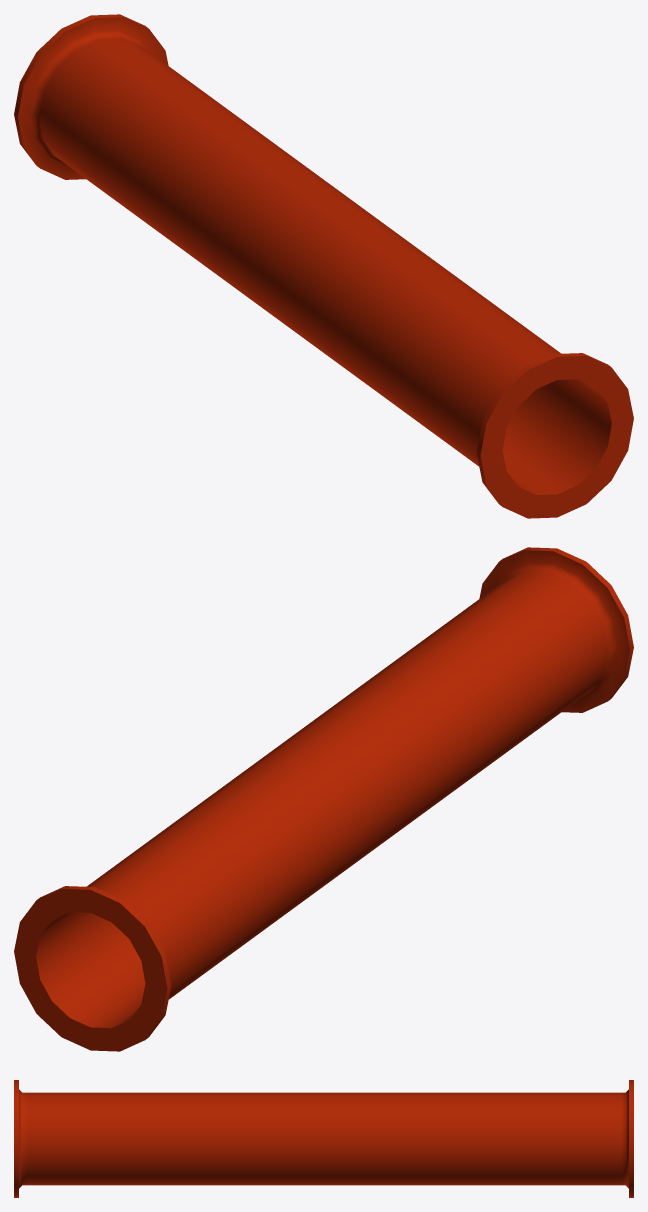
File: Pipe_02.FBX
3 views of the same model, one above another, from view 1: azimuth 30°, elevation 25°; view 2: azimuth 150°, elevation 25°; view 3: azimuth 270°, elevation 25° (orthographic). The views are drawn at different scales.
Parts seen in each view (by area): view 1: Pipe_up1_002_Low; view 2: Pipe_up1_002_Low; view 3: Pipe_up1_002_Low.
Boxes of the visible parts, x1,y1,x2,y2 form: Pipe_up1_002_Low: (14, 14, 633, 518); Pipe_up1_002_Low: (14, 547, 633, 1051); Pipe_up1_002_Low: (14, 1080, 633, 1197).
Bounding box in the file's own units: 38 × 38 × 200.
